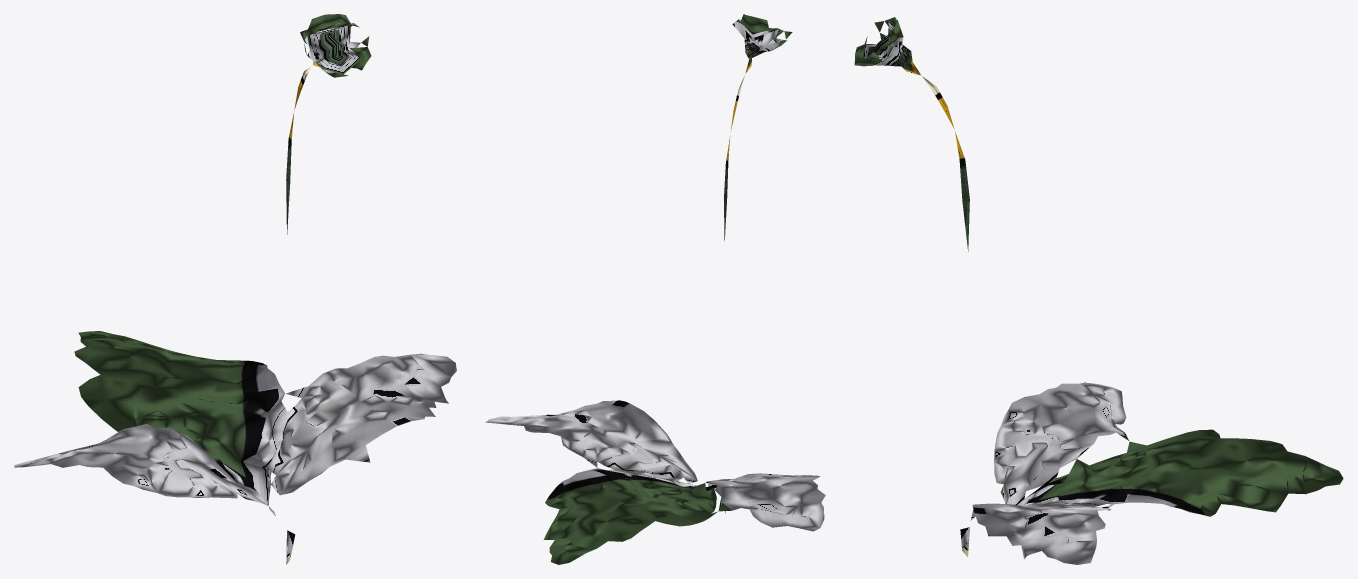
File: flower.glb
3 renders of one model, left to right at view 1: azimuth 30°, elevation 25°; view 2: azimuth 150°, elevation 25°; view 3: azimuth 270°, elevation 25°, orthographic. The views are drawn at different scales.
Visible parts, largest first — view 1: m0; view 2: m0; view 3: m0.
Boxes of the visible parts, left/top/right/bottom form: m0: left=14, top=14, right=456, bottom=564; m0: left=485, top=14, right=825, bottom=564; m0: left=854, top=17, right=1343, bottom=564.
Bounding box in the file's own units: 0.2366 × 0.3095 × 0.2549.
Materials: 1 (1 with a texture image).
